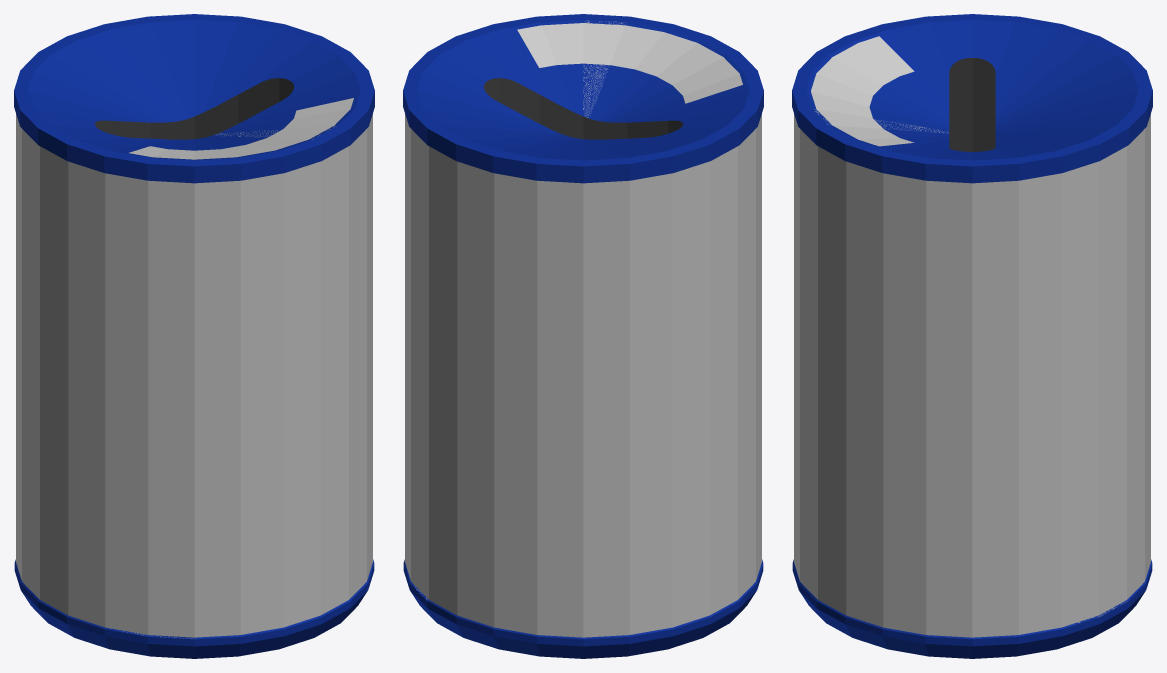
3 views of the same model, side by side, from view 1: azimuth 30°, elevation 25°; view 2: azimuth 150°, elevation 25°; view 3: azimuth 270°, elevation 25° (orthographic).
Visible parts, largest first — view 1: mesh2.005_mesh2-geometry, mesh1.002_mesh1-geometry, mesh3.005_mesh3-geometry, mesh4.005_mesh4-geometry, mesh5.002_mesh5-geometry; view 2: mesh2.005_mesh2-geometry, mesh1.002_mesh1-geometry, mesh5.002_mesh5-geometry, mesh3.005_mesh3-geometry, mesh4.005_mesh4-geometry; view 3: mesh2.005_mesh2-geometry, mesh1.002_mesh1-geometry, mesh3.005_mesh3-geometry, mesh5.002_mesh5-geometry, mesh4.005_mesh4-geometry.
Boxes of the visible parts, x1,y1,x2,y2 form: mesh2.005_mesh2-geometry: [16, 114, 372, 637]; mesh1.002_mesh1-geometry: [14, 14, 374, 183]; mesh3.005_mesh3-geometry: [14, 559, 374, 658]; mesh4.005_mesh4-geometry: [95, 78, 294, 139]; mesh5.002_mesh5-geometry: [129, 98, 353, 159]; mesh2.005_mesh2-geometry: [405, 114, 761, 637]; mesh1.002_mesh1-geometry: [403, 14, 763, 183]; mesh5.002_mesh5-geometry: [517, 23, 742, 103]; mesh3.005_mesh3-geometry: [403, 559, 763, 658]; mesh4.005_mesh4-geometry: [483, 78, 682, 139]; mesh2.005_mesh2-geometry: [794, 114, 1150, 637]; mesh1.002_mesh1-geometry: [792, 14, 1152, 183]; mesh3.005_mesh3-geometry: [792, 559, 1152, 658]; mesh5.002_mesh5-geometry: [811, 36, 914, 146]; mesh4.005_mesh4-geometry: [949, 58, 995, 151].
Bounding box in the file's own units: 0.4816 × 0.7322 × 0.4816.
